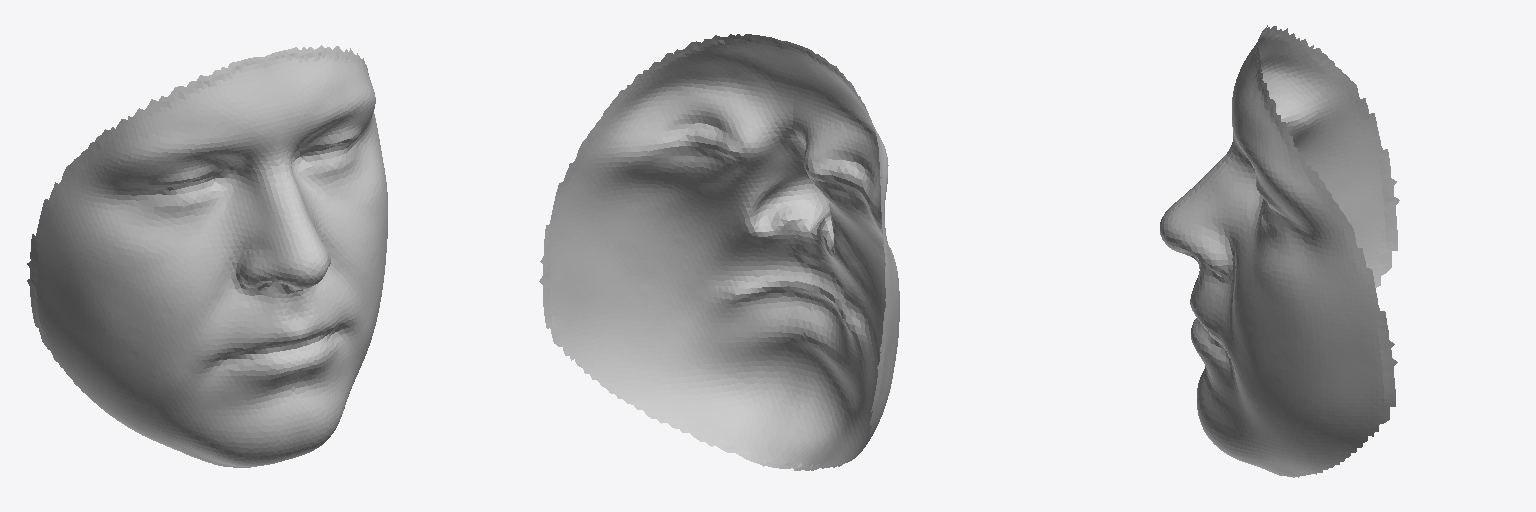
File: SIMPOP_22.obj
3 renders of one model, left to right at view 1: azimuth 30°, elevation 25°; view 2: azimuth 150°, elevation 25°; view 3: azimuth 270°, elevation 25°, orthographic.
Visible parts, largest first — view 1: SIMPOP_22; view 2: SIMPOP_22; view 3: SIMPOP_22.
Boxes of the visible parts, x1=… form: SIMPOP_22: x1=27, y1=45, x2=387, y2=467; SIMPOP_22: x1=539, y1=34, x2=899, y2=470; SIMPOP_22: x1=1160, y1=25, x2=1399, y2=477.
Size of the model in its own units: 155 by 182 by 94.89.